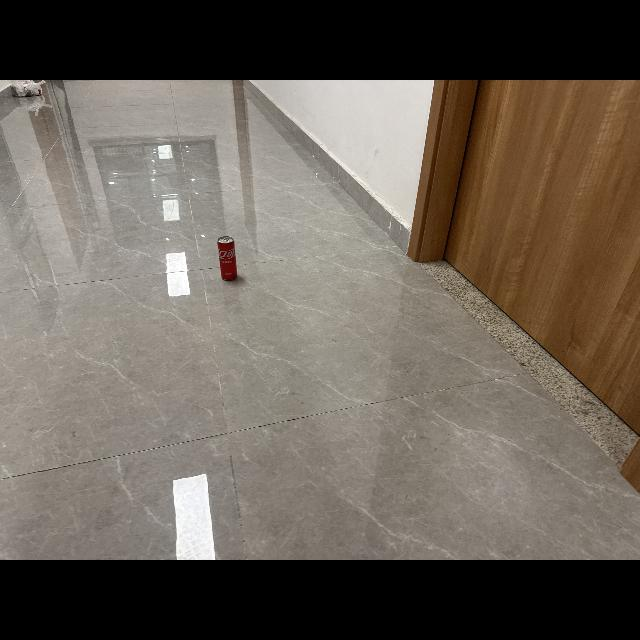Cola: (213, 231, 247, 287)
